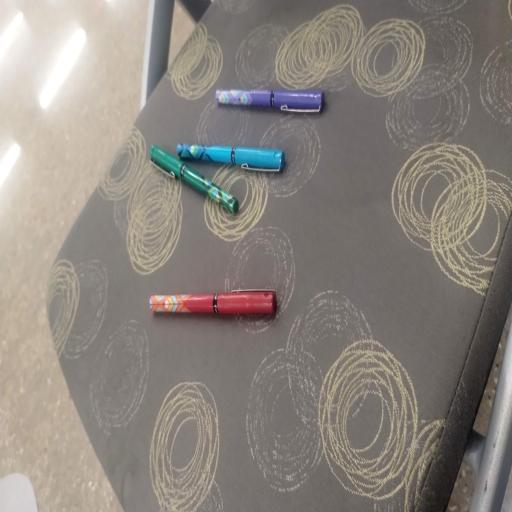pen: (151, 145, 238, 213), (177, 144, 284, 172), (150, 291, 276, 314), (216, 90, 324, 112)
